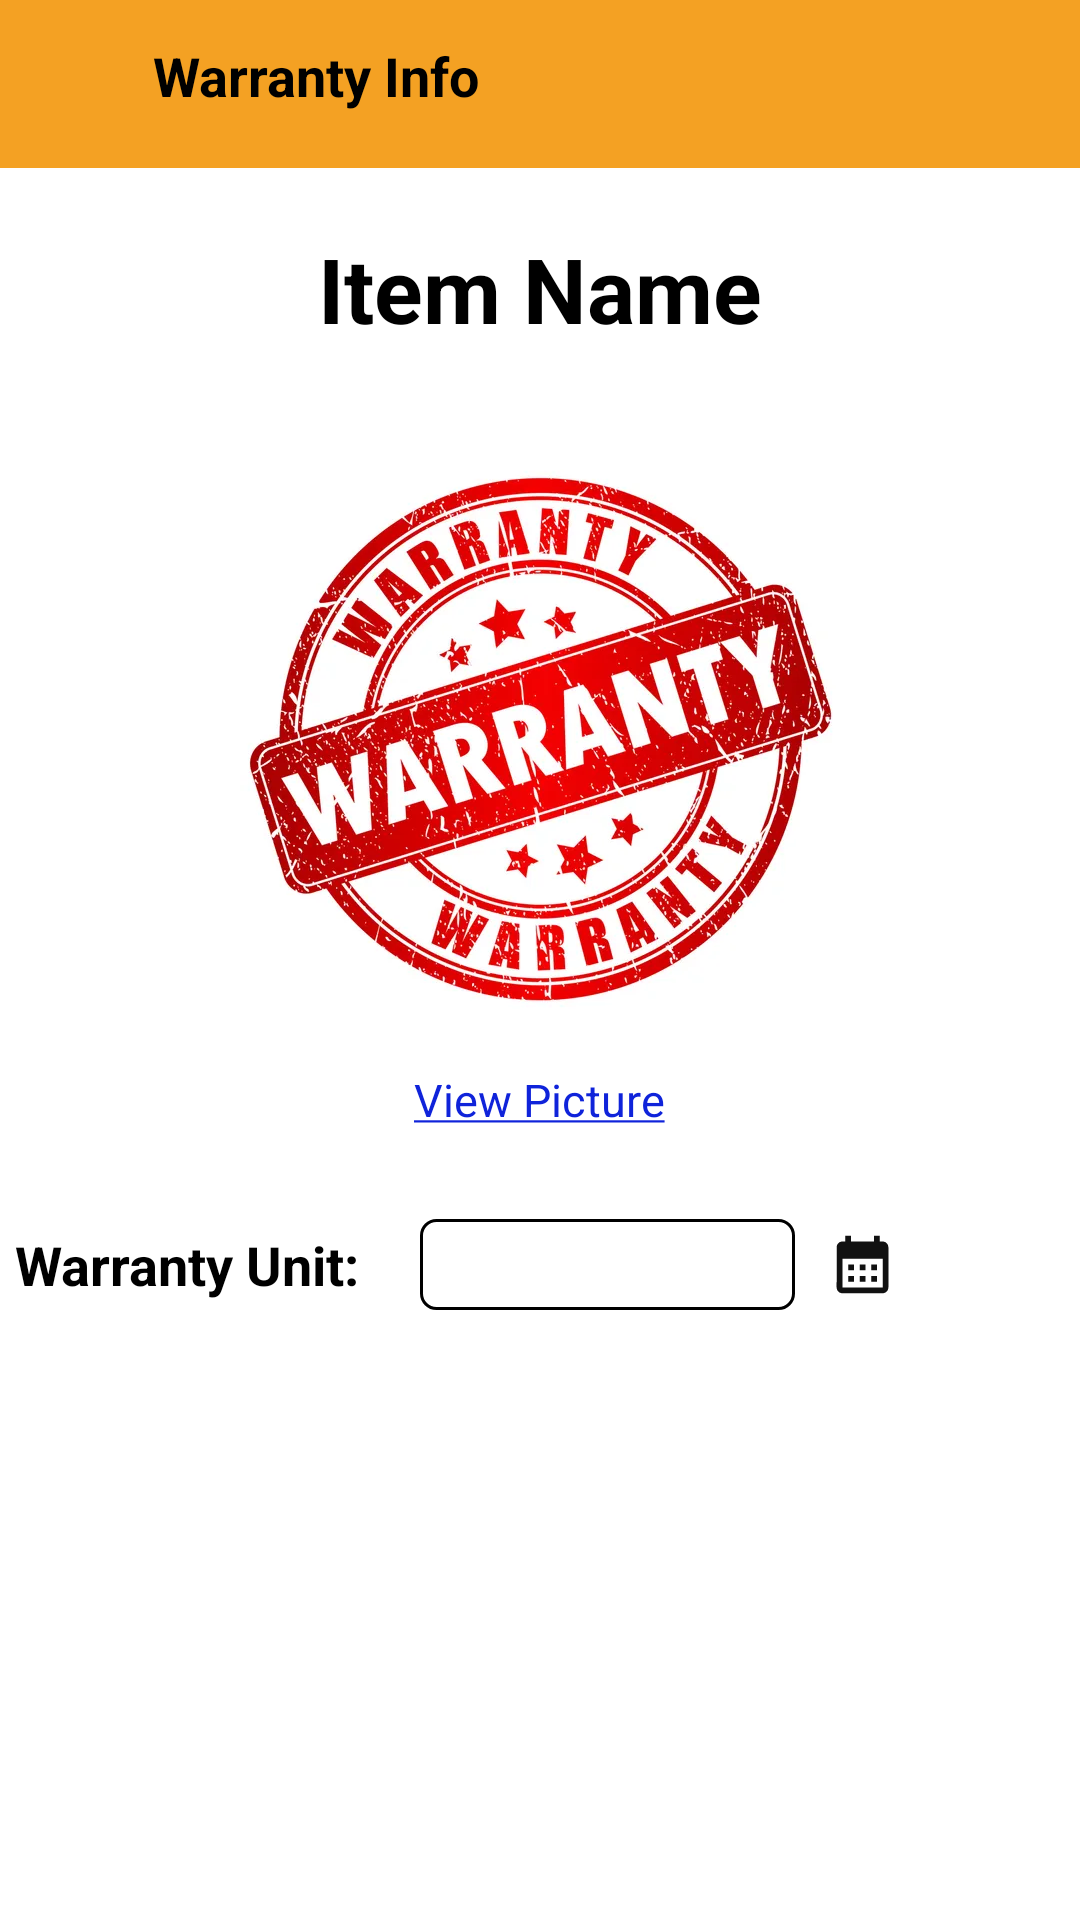

Screen size 1080px×1920px. Icon name, then its box in pixels as {"left": x1, "top": y1, "right": x2, "bottom": y2}:
calendar: {"left": 836, "top": 1235, "right": 889, "bottom": 1294}
